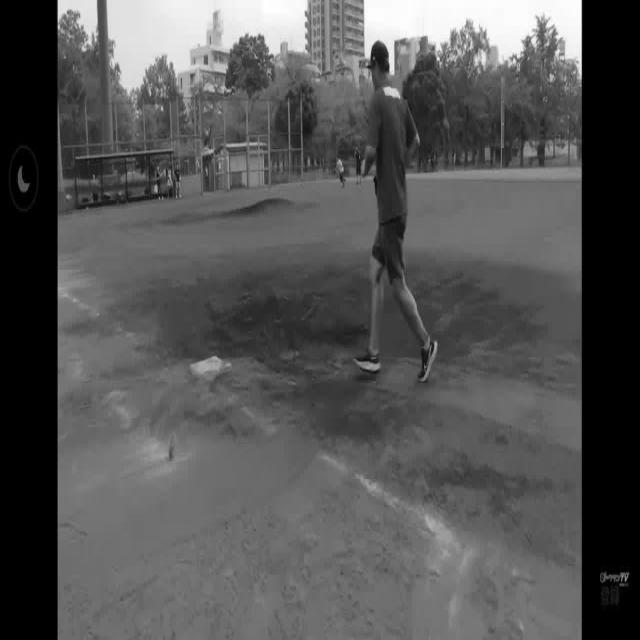base: (187, 350, 237, 382)
shoe: (414, 333, 441, 385), (352, 349, 386, 376)
